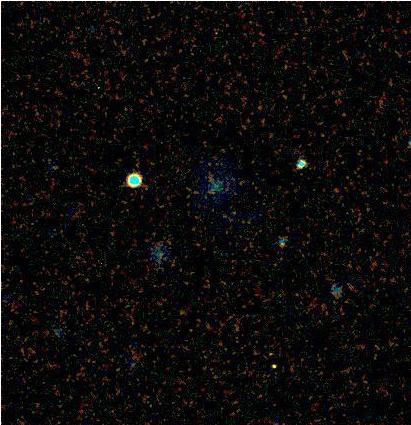star: (255, 351, 285, 381)
